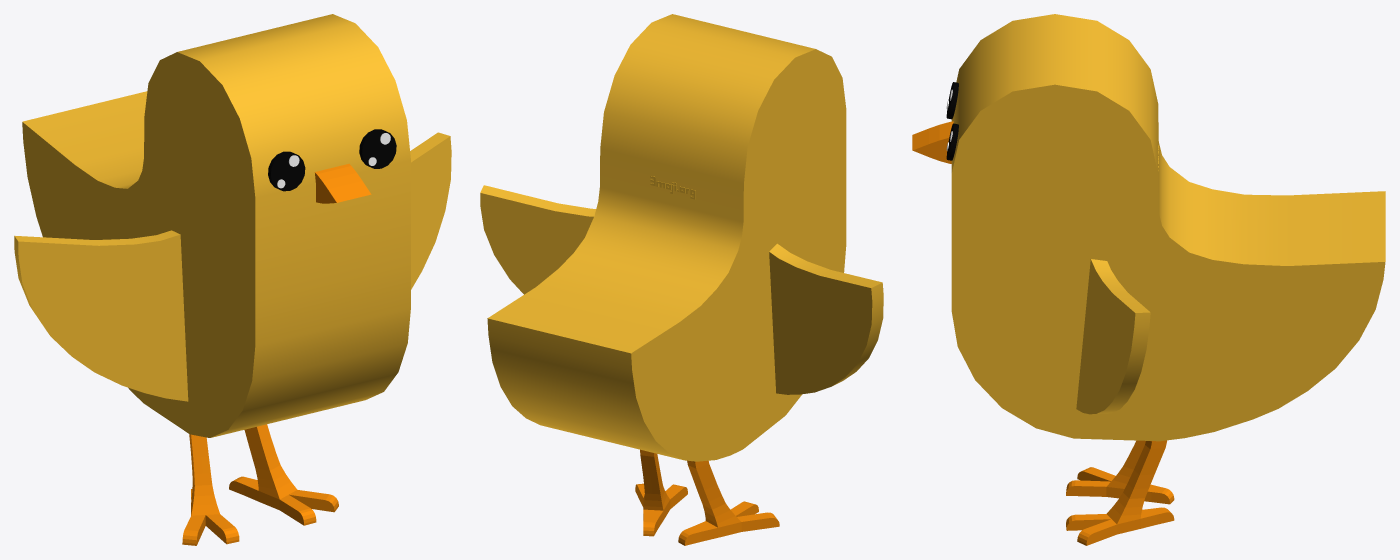
File: front_facing_baby_chick.fbx
3 views of the same model, side by side, from view 1: azimuth 30°, elevation 25°; view 2: azimuth 150°, elevation 25°; view 3: azimuth 270°, elevation 25° (orthographic). The views are drawn at different scales.
Visible parts, largest first — view 1: Cube.6304, Circle.1946; view 2: Cube.6304, Circle.1946; view 3: Cube.6304, Circle.1946.
Part boxes in pixels (box(x1,y1,x2,y2)): Cube.6304: box(22, 14, 410, 545); Circle.1946: box(14, 132, 451, 401); Cube.6304: box(487, 14, 846, 545); Circle.1946: box(480, 185, 883, 394); Cube.6304: box(912, 14, 1385, 545); Circle.1946: box(1076, 259, 1150, 414).
Bounding box in the file's own units: 180 × 197 × 183.
1 material, 1 textured.
